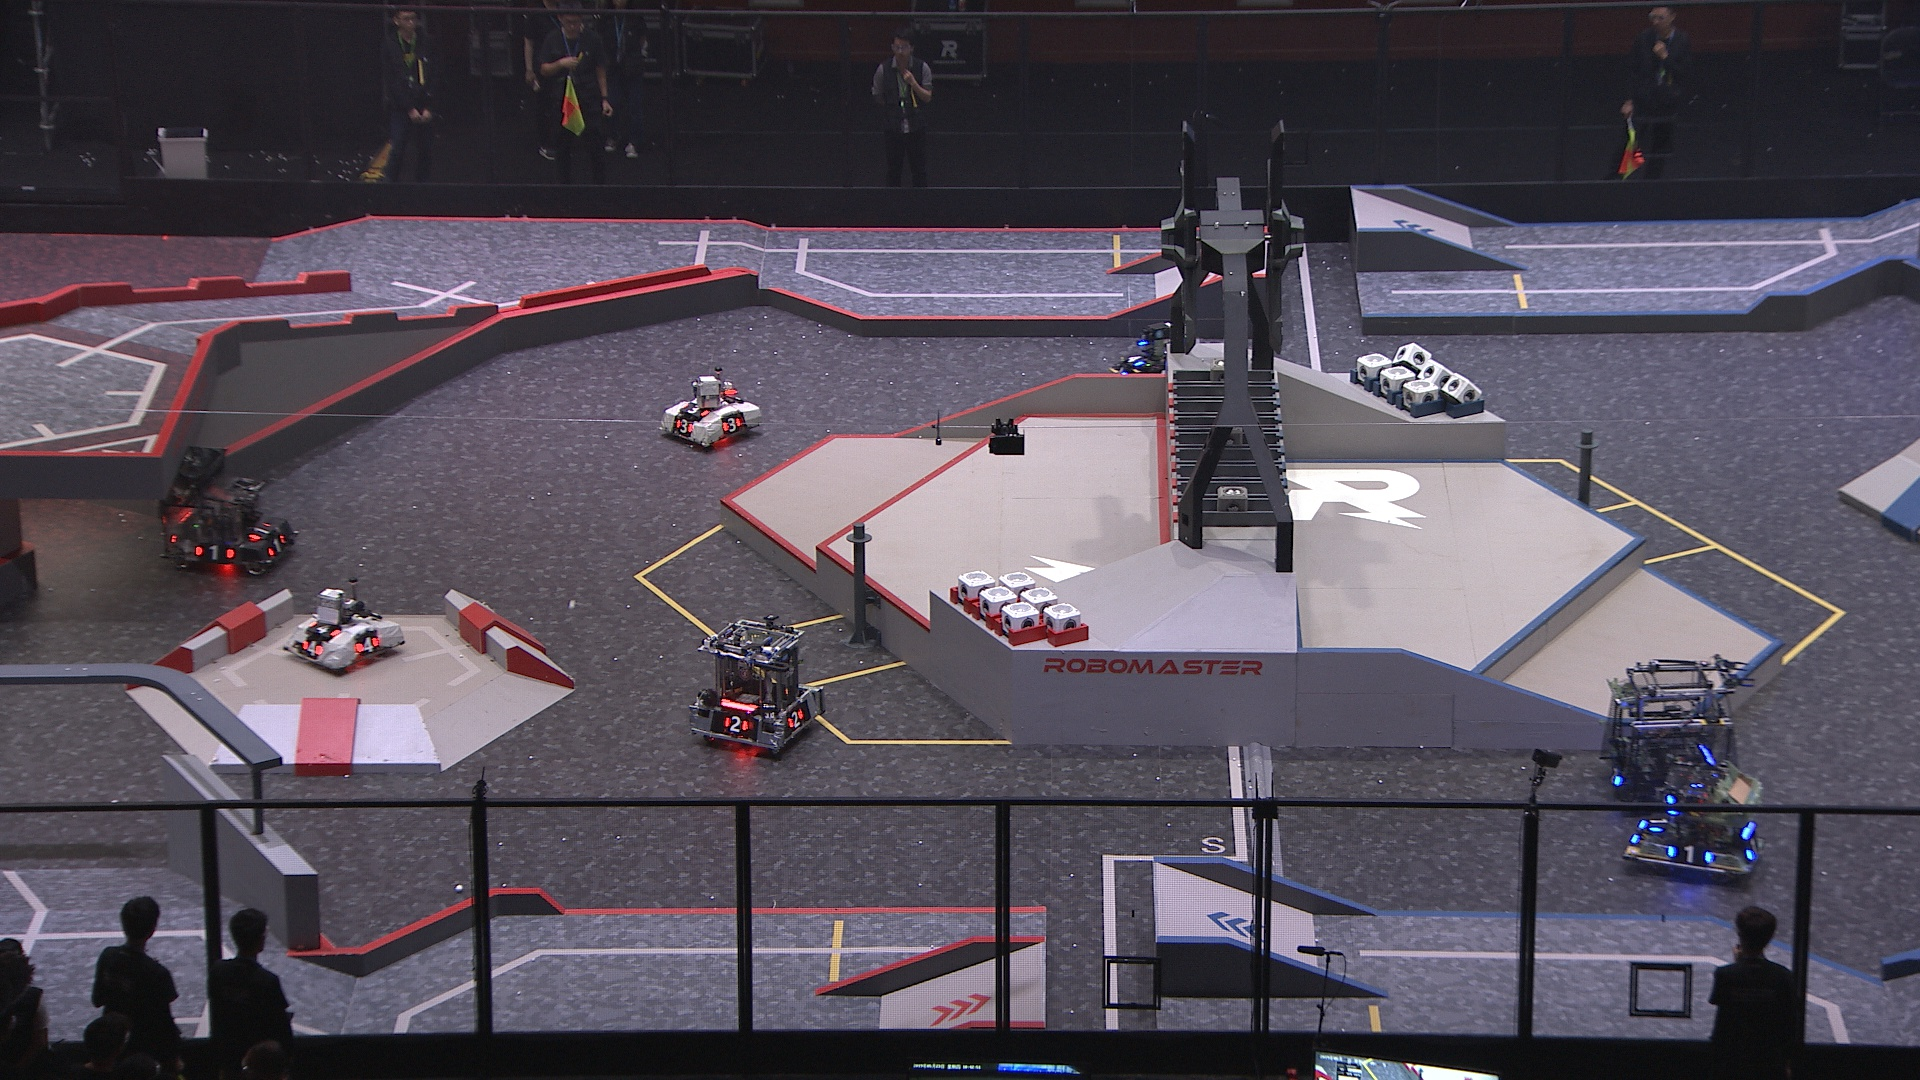armor: (1665, 841, 1712, 868), (191, 541, 237, 564), (1742, 831, 1766, 866), (1646, 807, 1673, 836), (721, 712, 752, 738), (266, 527, 291, 559), (352, 629, 382, 654), (306, 617, 342, 638), (247, 518, 272, 543), (1605, 761, 1627, 789), (669, 417, 698, 438), (785, 707, 807, 731), (717, 415, 742, 436), (680, 400, 708, 418), (1120, 352, 1145, 371), (301, 637, 323, 655)
car: (686, 613, 827, 761), (1604, 659, 1742, 808), (1625, 750, 1768, 887), (156, 440, 294, 580), (284, 575, 410, 675), (651, 363, 766, 451), (1112, 320, 1197, 394)
